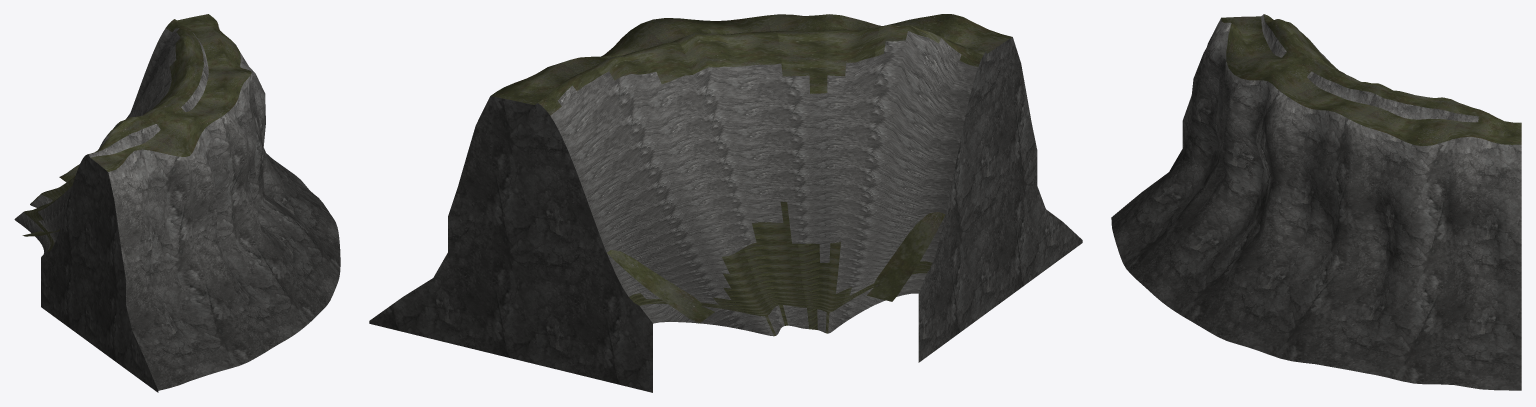
The model's file is seacliff_outer_h3_v5_summer.glb.
3 renders of one model, left to right at view 1: azimuth 30°, elevation 25°; view 2: azimuth 150°, elevation 25°; view 3: azimuth 270°, elevation 25°, orthographic. The views are drawn at different scales.
Visible parts, largest first — view 1: seacliff_outer_h3; view 2: seacliff_outer_h3; view 3: seacliff_outer_h3.
Boxes of the visible parts, x1,y1,x2,y2 form: seacliff_outer_h3: (14, 14, 340, 392); seacliff_outer_h3: (369, 14, 1082, 392); seacliff_outer_h3: (1111, 14, 1521, 390).
Bounding box in the file's own units: 8.19 × 4.93 × 8.19.
Materials: 2 (2 with a texture image).
